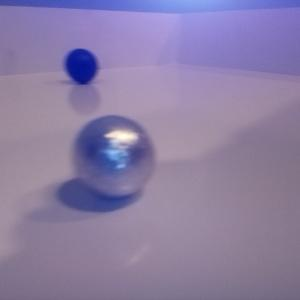alive_ball: (71, 115, 154, 199)
dead_ball: (65, 49, 97, 84)
